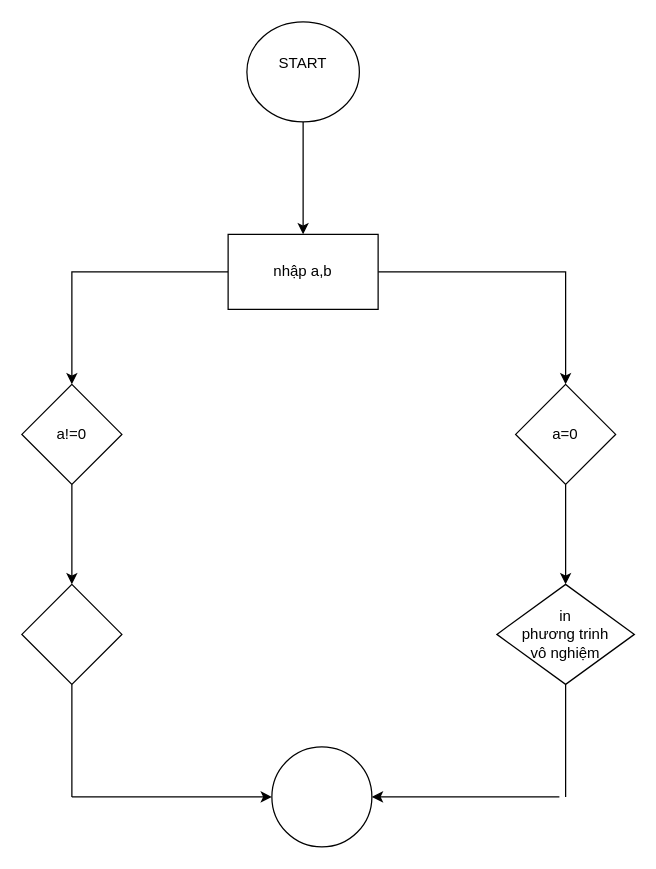
Image size: 656x869. Some labels were removed from this diagram. The centre of each missing label's shape, as x and y in pixels:
"END" goes at point 321,796.
"X= -b/a" goes at point 71,633.
